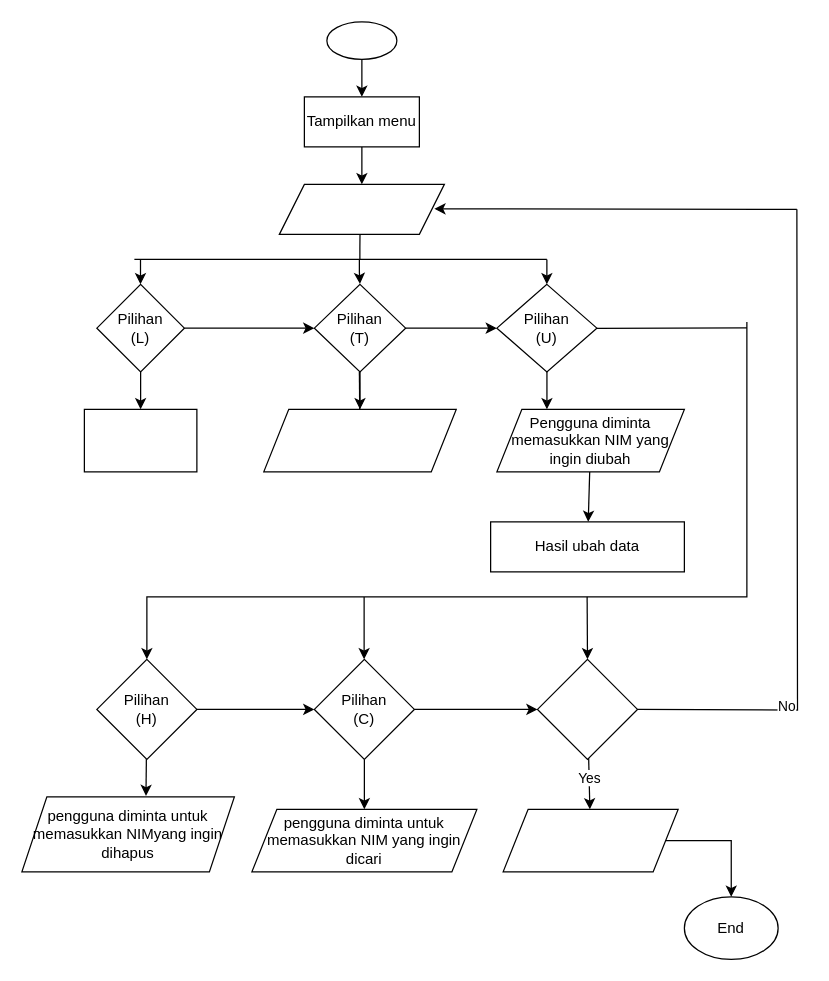
Some shapes in this 829 by 981 pixel diagram are drawn without their labels. Each missing label, with the centre of its shape:
"Input (NIM, Nama, Nilai Tugas, Nilai UTS, Nilai UAS)" belongs at point (359, 440).
"Input pilihan menu" belongs at point (361, 208).
"Menampilkan data yang ada" belongs at point (140, 440).
"Pilihan (K)" belongs at point (587, 708).
"Program keluar" belongs at point (590, 840).
"Start" belongs at point (361, 40).
